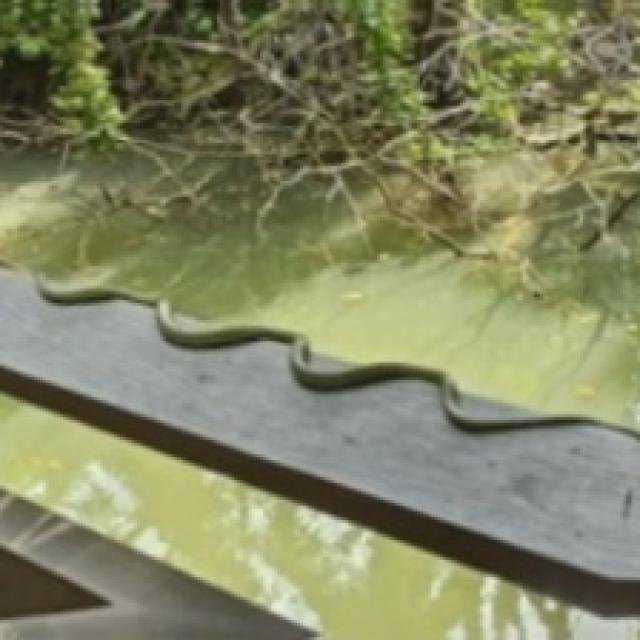paradise tree snake: (38, 277, 620, 429)
